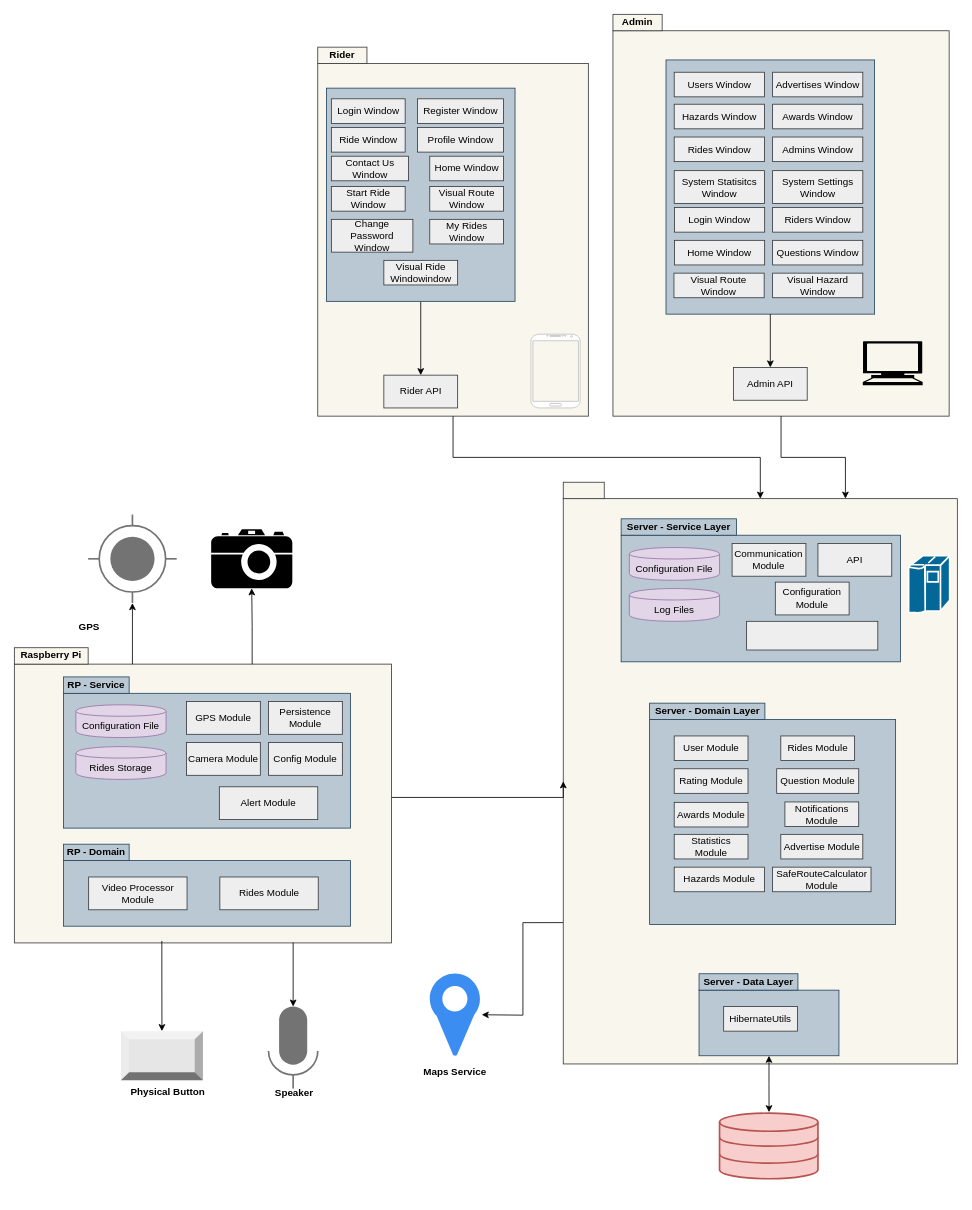
Image size: 972x1210. Some labels were removed from this diagram. The centre of each missing label's shape, as x and y in pixels:
"Button" goes at pixel 162 1055.
"Camera" goes at pixel 251 558.
"Database" goes at pixel 768 1145.
"External Services Handler" goes at pixel 812 635.
"Server" goes at pixel 583 490.
